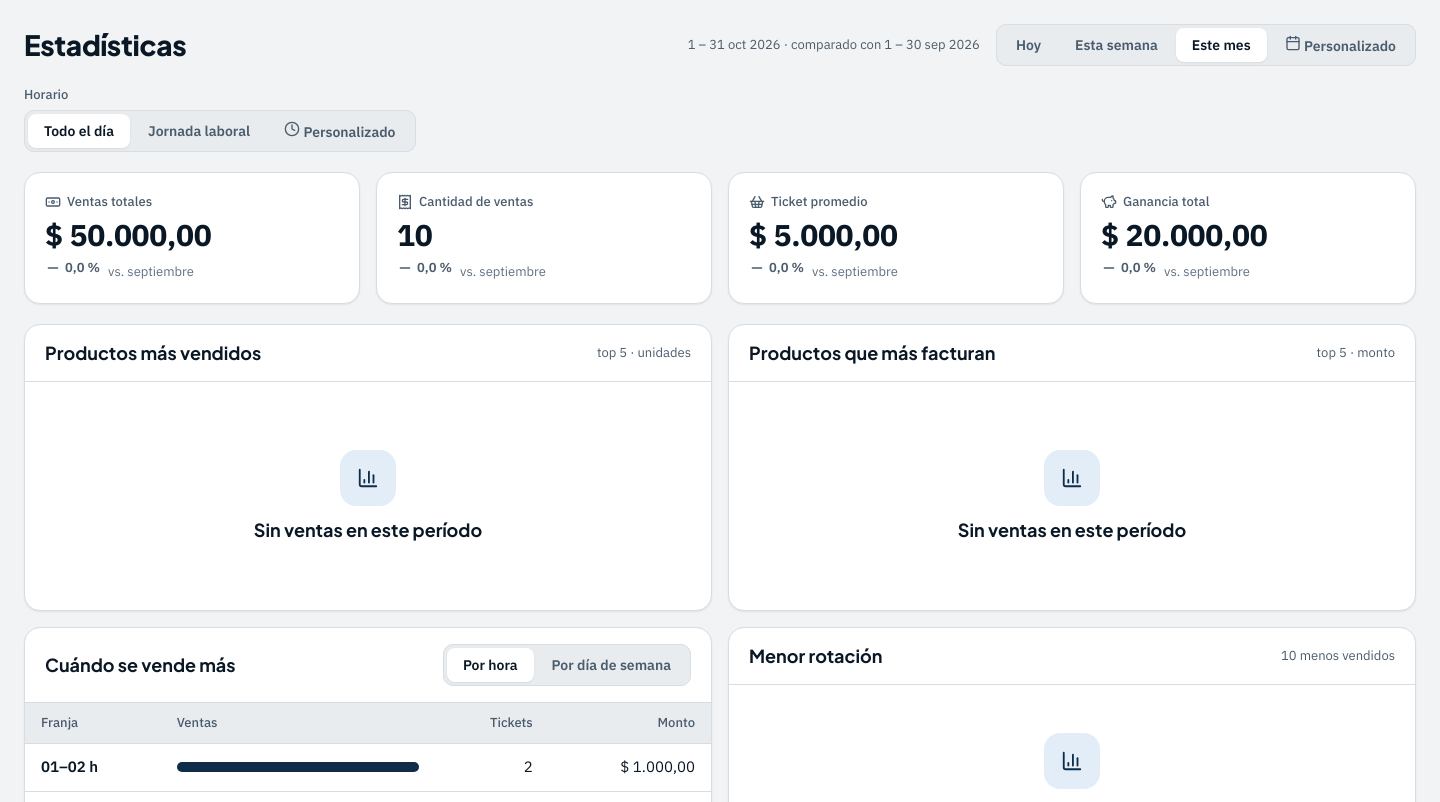
Scenario: Stats — filtro horario: día comercial en curso › 7. Hoy a la 01:00 con jornada = lunes
Click the tab "Hoy". click: (1028, 45)
box: [1000,28,1057,62]
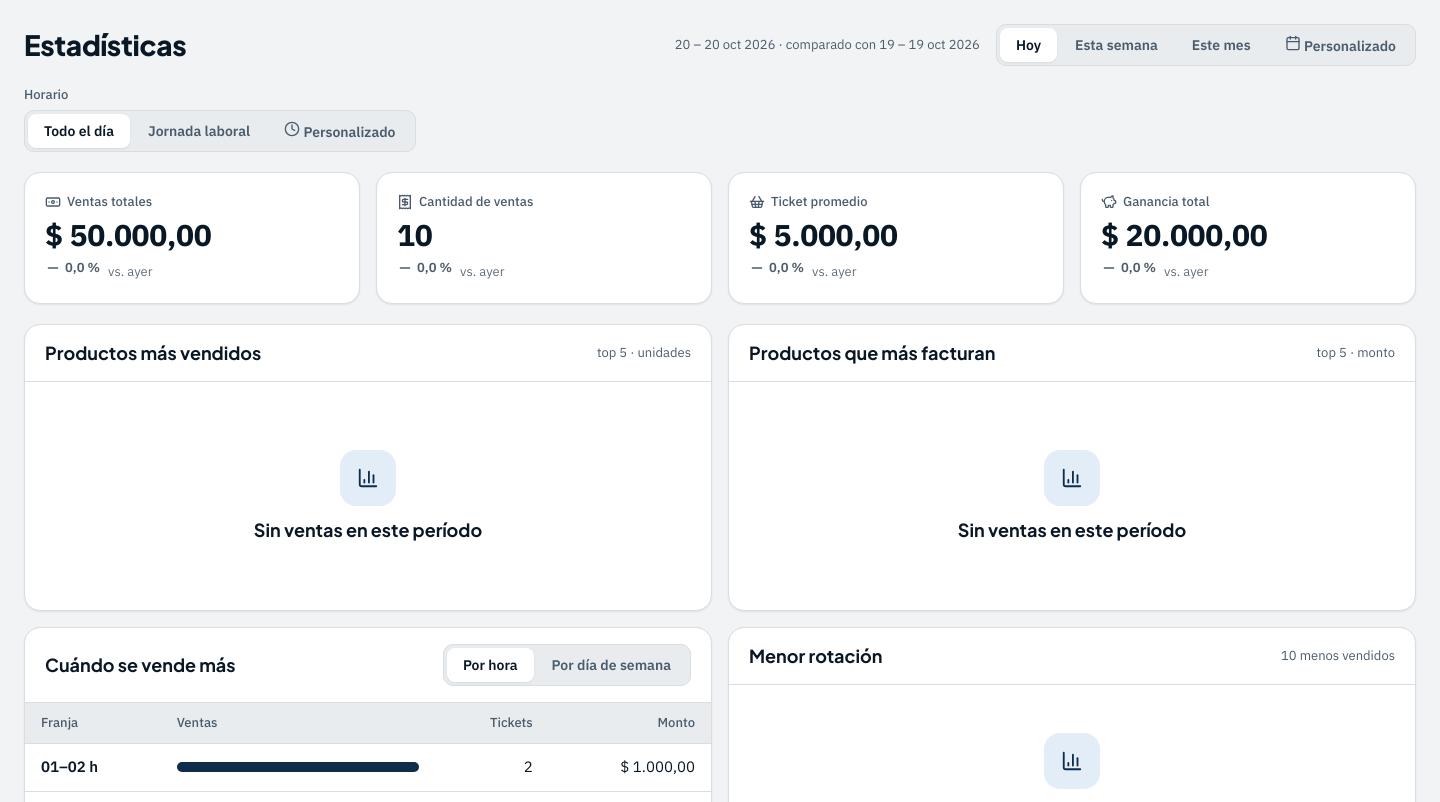
Click the tab "Jornada laboral". click: (199, 131)
box: [132,114,266,148]
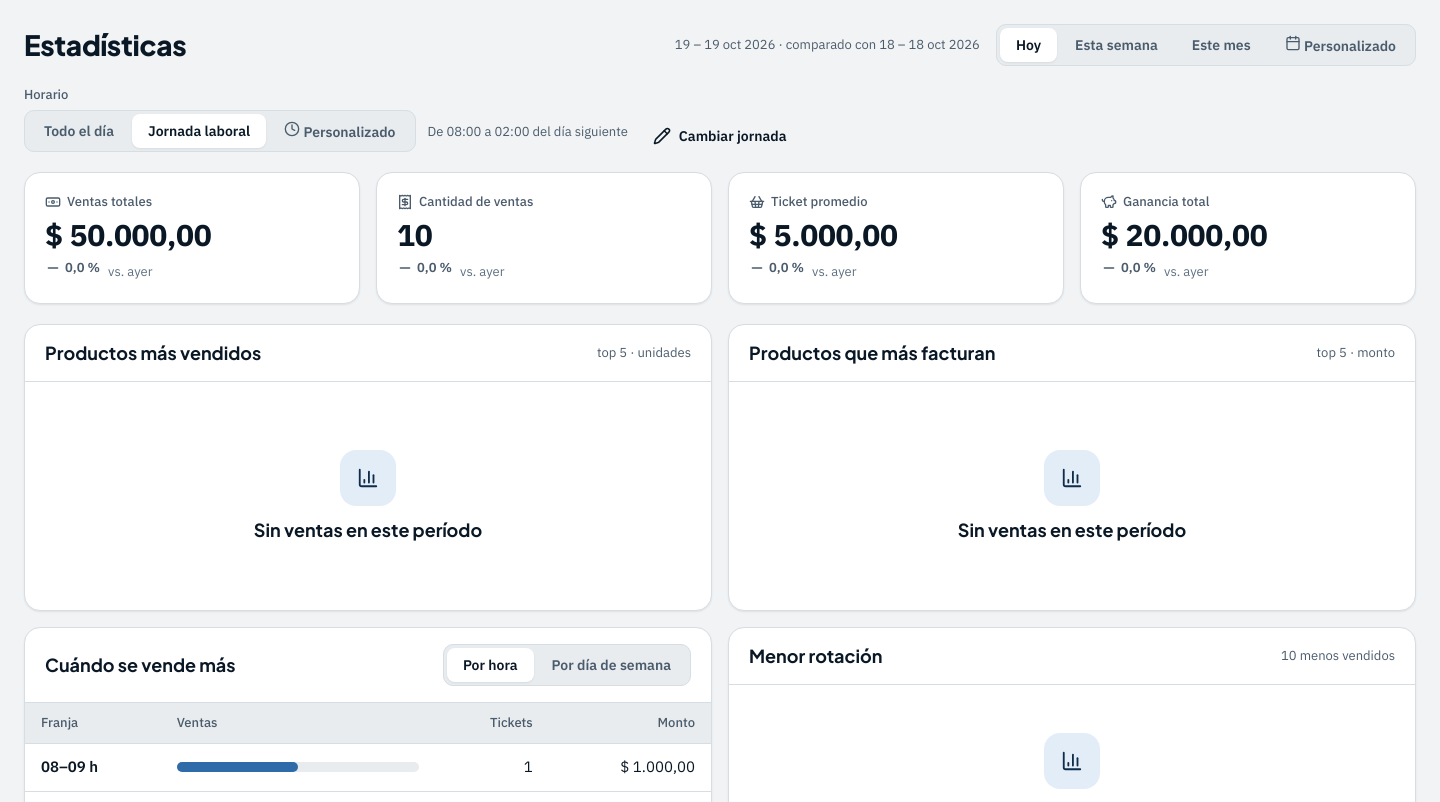
Now the text "19 – 19 oct 2026 · comparado con 18 – 18 oct 2026" is shown, box [675,36,980,54]
